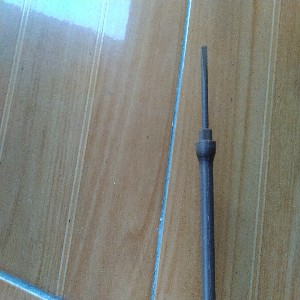obeng: (193, 44, 217, 300)
